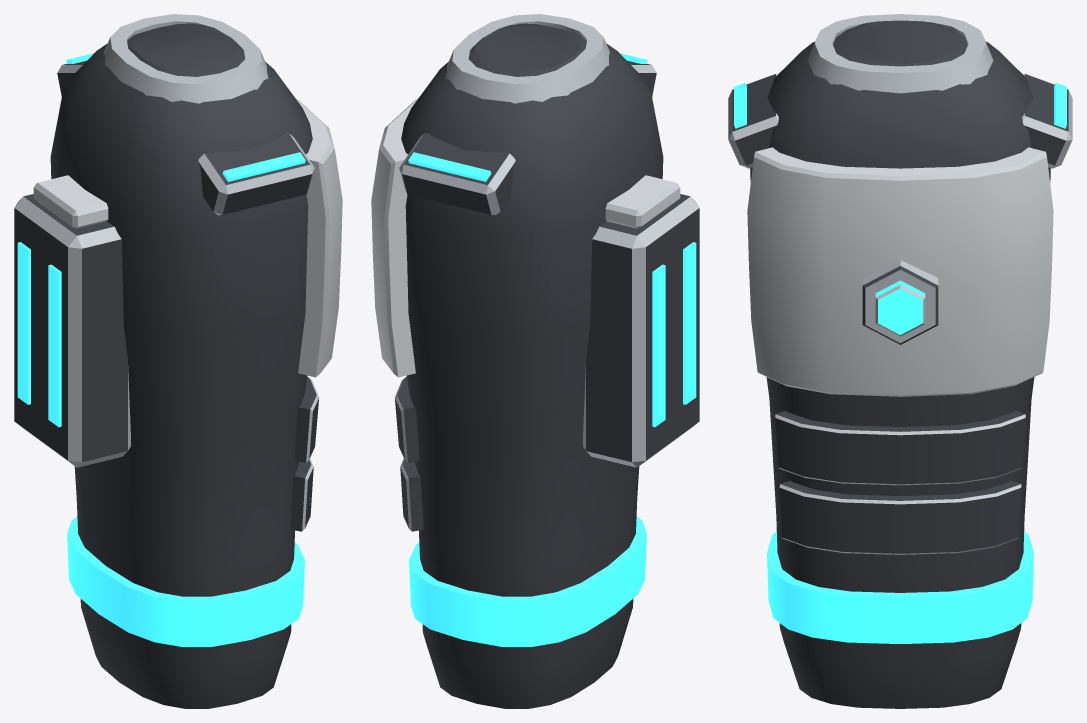
The model's file is SM_MRBody.glb.
The picture shows the model from 3 angles, left to right: view 1: azimuth 30°, elevation 25°; view 2: azimuth 150°, elevation 25°; view 3: azimuth 270°, elevation 25°; orthographic projection. The views are drawn at different scales.
Parts seen in each view (by area): view 1: SM_MRBody; view 2: SM_MRBody; view 3: SM_MRBody.
Boxes of the visible parts, <box> form: SM_MRBody: <box>14,14,342,708</box>; SM_MRBody: <box>371,14,699,708</box>; SM_MRBody: <box>728,14,1072,708</box>.
Size of the model in its own units: 0.394 by 0.8 by 0.3936.
